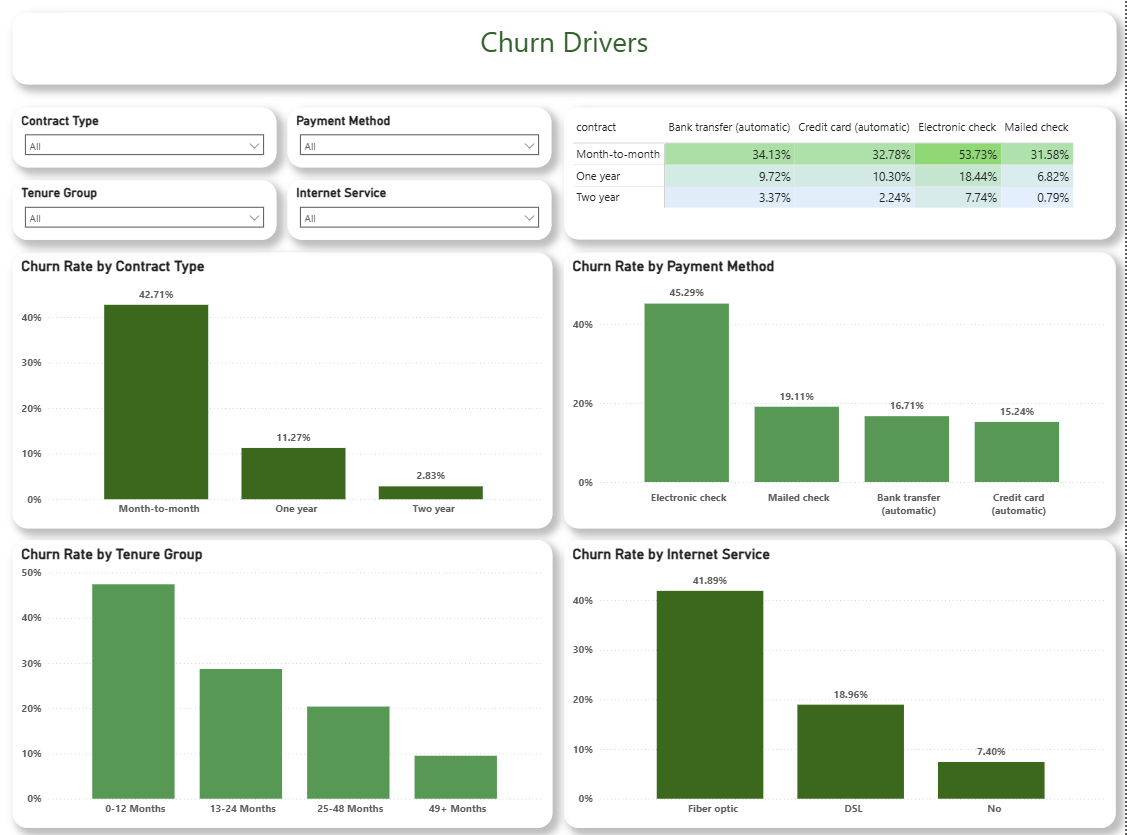

This screenshot's page, from the dashboard's own definition file:
{"tool":"powerbi","page":{"name":"Churn Drivers","canvas":[1500,1115],"ordinal":1},"visuals":[{"type":"clusteredColumnChart","title":"Churn Rate by Contract Type","fields":{"Category":["vw_telecom_churn_bi.contract"],"Y":["Measures (2).Churn Rate"]},"box":[16,336,720,368],"z":0},{"type":"clusteredColumnChart","title":"Churn Rate by Payment Method","fields":{"Category":["vw_telecom_churn_bi.payment_method"],"Y":["Measures (2).Churn Rate"]},"box":[752,336,736,368],"z":1000},{"type":"clusteredColumnChart","title":"Churn Rate by Internet Service","fields":{"Category":["vw_telecom_churn_bi.internet_service"],"Y":["Measures (2).Churn Rate"]},"box":[752,720,736,384],"z":2000},{"type":"clusteredColumnChart","title":"Churn Rate by Tenure Group","fields":{"Y":["Measures (2).Churn Rate"],"Category":["vw_telecom_churn_bi.tenure_group"]},"box":[16,720,720,384],"z":3000},{"type":"textbox","box":[16,16,1472,96],"z":3001},{"type":"pivotTable","fields":{"Rows":["vw_telecom_churn_bi.contract"],"Columns":["vw_telecom_churn_bi.payment_method"],"Values":["Measures (2).Churn Rate"]},"box":[752,144,736,176],"z":3003},{"type":"slicer","title":"Contract Type","fields":{"Values":["vw_telecom_churn_bi.contract"]},"box":[16,144,352,80],"z":3004},{"type":"slicer","title":"Payment Method","fields":{"Values":["vw_telecom_churn_bi.payment_method"]},"box":[384,144,352,80],"z":3005},{"type":"slicer","title":"Tenure Group","fields":{"Values":["vw_telecom_churn_bi.tenure_group"]},"box":[16,240,352,80],"z":3006},{"type":"slicer","title":"Internet Service","fields":{"Values":["vw_telecom_churn_bi.internet_service"]},"box":[384,240,352,80],"z":3007}]}

Visuals, with their boxes in screenshot pixels (x1, y1, x2, y2), scaled from the page's 1500x1115 canvas onto the 1127x835 screenshot:
"Churn Rate by Contract Type" clusteredColumnChart: <region>12, 252, 553, 527</region>
"Churn Rate by Payment Method" clusteredColumnChart: <region>565, 252, 1118, 527</region>
"Churn Rate by Internet Service" clusteredColumnChart: <region>565, 539, 1118, 827</region>
"Churn Rate by Tenure Group" clusteredColumnChart: <region>12, 539, 553, 827</region>
textbox: <region>12, 12, 1118, 84</region>
pivotTable - vw_telecom_churn_bi.contract x vw_telecom_churn_bi.payment_method: <region>565, 108, 1118, 240</region>
"Contract Type" slicer: <region>12, 108, 276, 168</region>
"Payment Method" slicer: <region>289, 108, 553, 168</region>
"Tenure Group" slicer: <region>12, 180, 276, 240</region>
"Internet Service" slicer: <region>289, 180, 553, 240</region>
